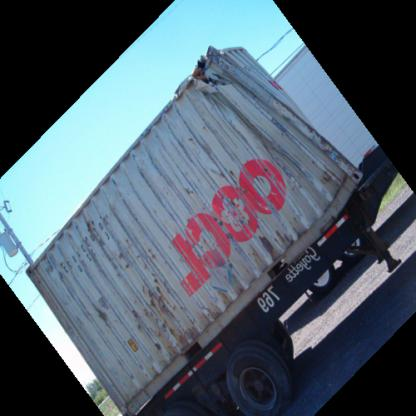Damage: (224, 146, 347, 276), (115, 256, 188, 370), (171, 40, 262, 110)
